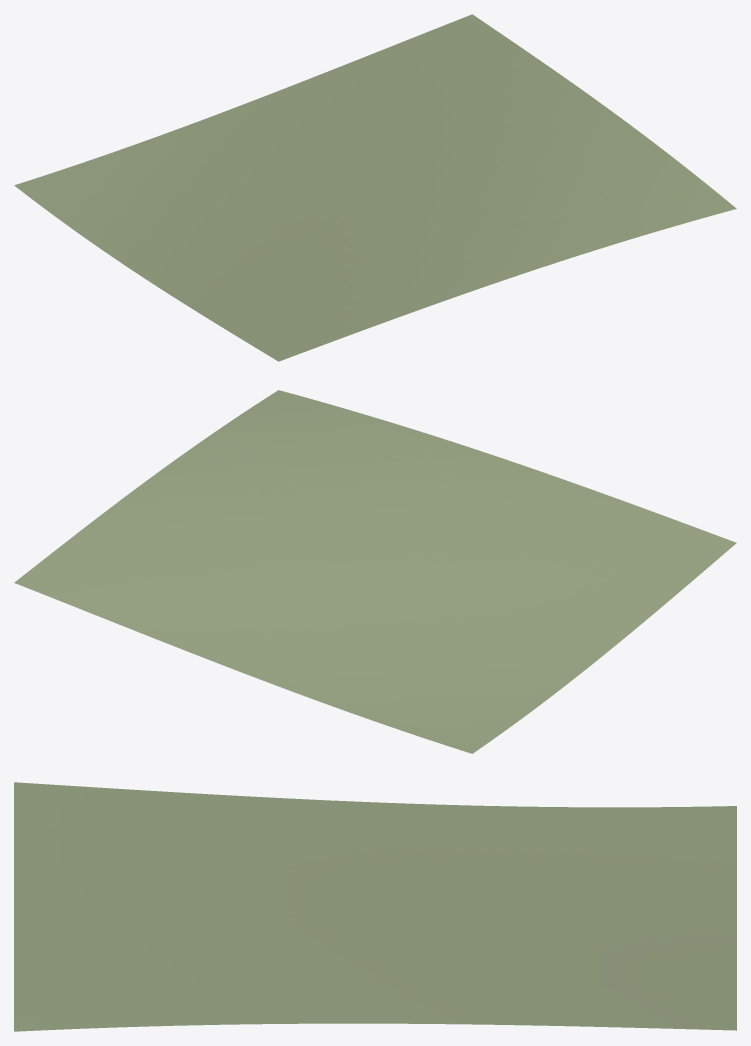
The model's file is alpine-11-15.glb.
The picture shows the model from 3 angles, top to bottom: view 1: azimuth 30°, elevation 25°; view 2: azimuth 150°, elevation 25°; view 3: azimuth 270°, elevation 25°; orthographic projection. The views are drawn at different scales.
Visible parts, largest first — view 1: alpine-11-15; view 2: alpine-11-15; view 3: alpine-11-15.
Boxes of the visible parts, x1=… form: alpine-11-15: x1=14, y1=14, x2=736, y2=361; alpine-11-15: x1=14, y1=390, x2=736, y2=753; alpine-11-15: x1=14, y1=782, x2=736, y2=1031.
Size of the model in its own units: 256 by 34.89 by 256.
